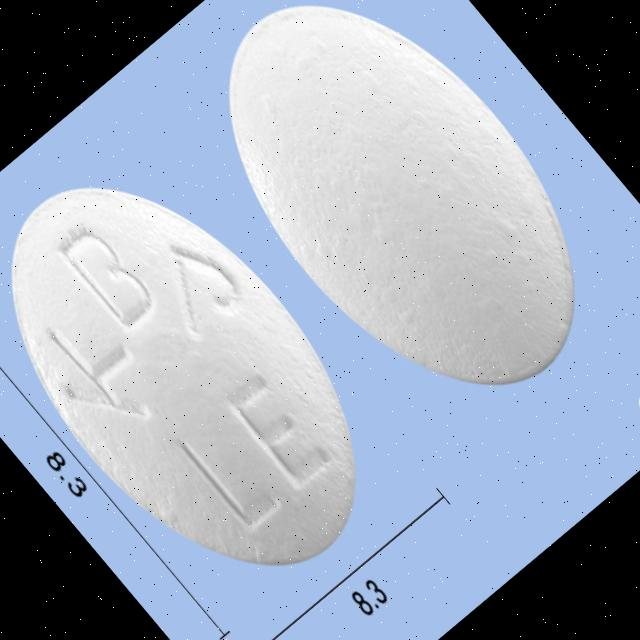Neobit Tab: (0, 125, 418, 624)
